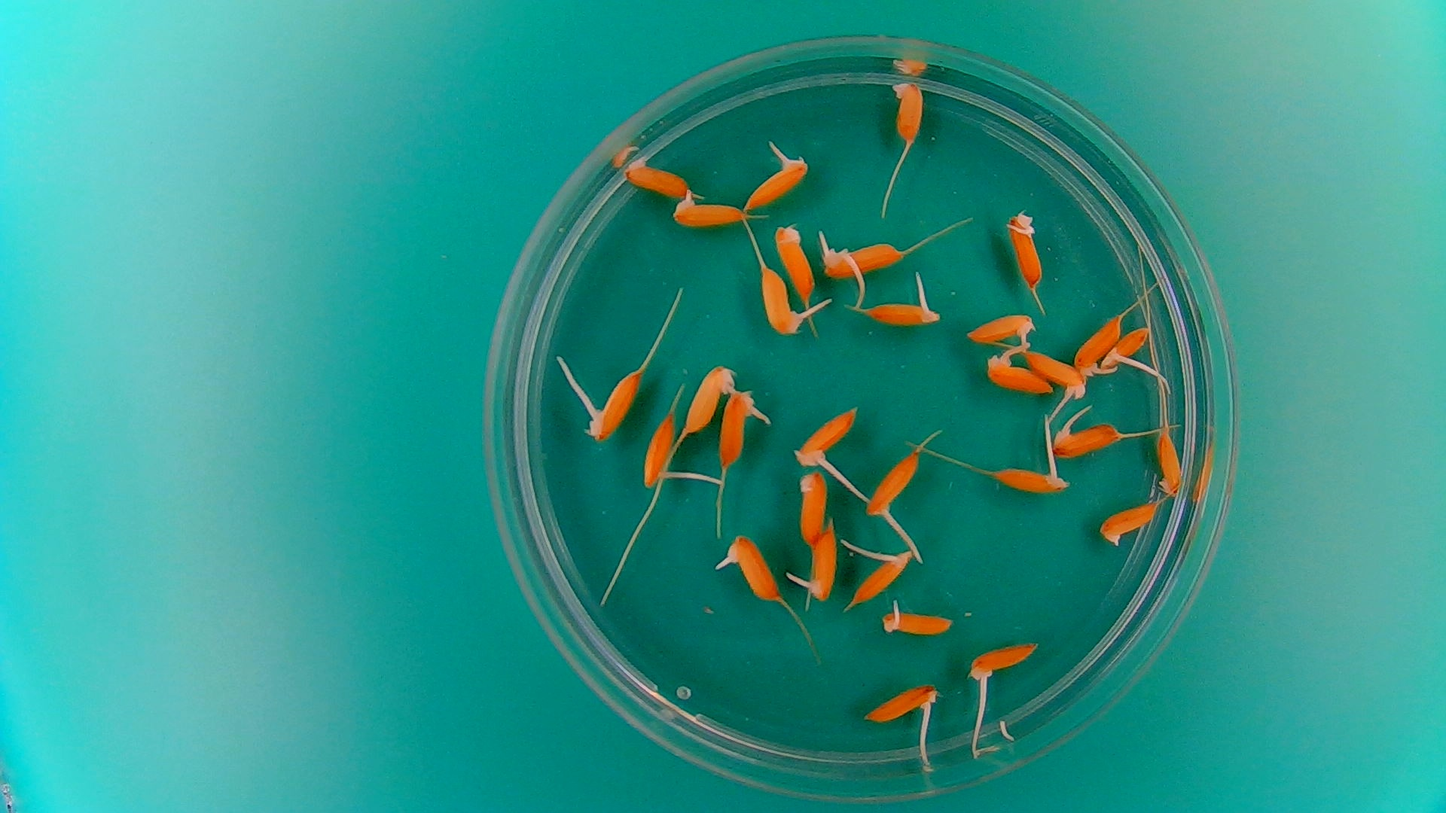no: (773, 222, 819, 310), (620, 154, 695, 198), (1097, 498, 1162, 548), (887, 77, 926, 146), (795, 466, 828, 547), (1152, 428, 1185, 499)
yes: (679, 359, 739, 437), (864, 445, 923, 524), (792, 403, 862, 469), (718, 531, 782, 603), (587, 365, 643, 438), (849, 544, 917, 604), (741, 152, 807, 212), (758, 262, 810, 338), (717, 385, 764, 468), (818, 239, 902, 282), (1003, 207, 1046, 291), (859, 680, 940, 724), (981, 349, 1053, 397), (1023, 348, 1087, 402), (967, 637, 1042, 683), (640, 409, 680, 491), (1048, 418, 1125, 460), (991, 457, 1072, 496), (1072, 312, 1121, 375), (962, 308, 1038, 348), (1100, 322, 1154, 376), (669, 191, 746, 228), (805, 522, 839, 604), (880, 602, 956, 638), (859, 297, 940, 328)
